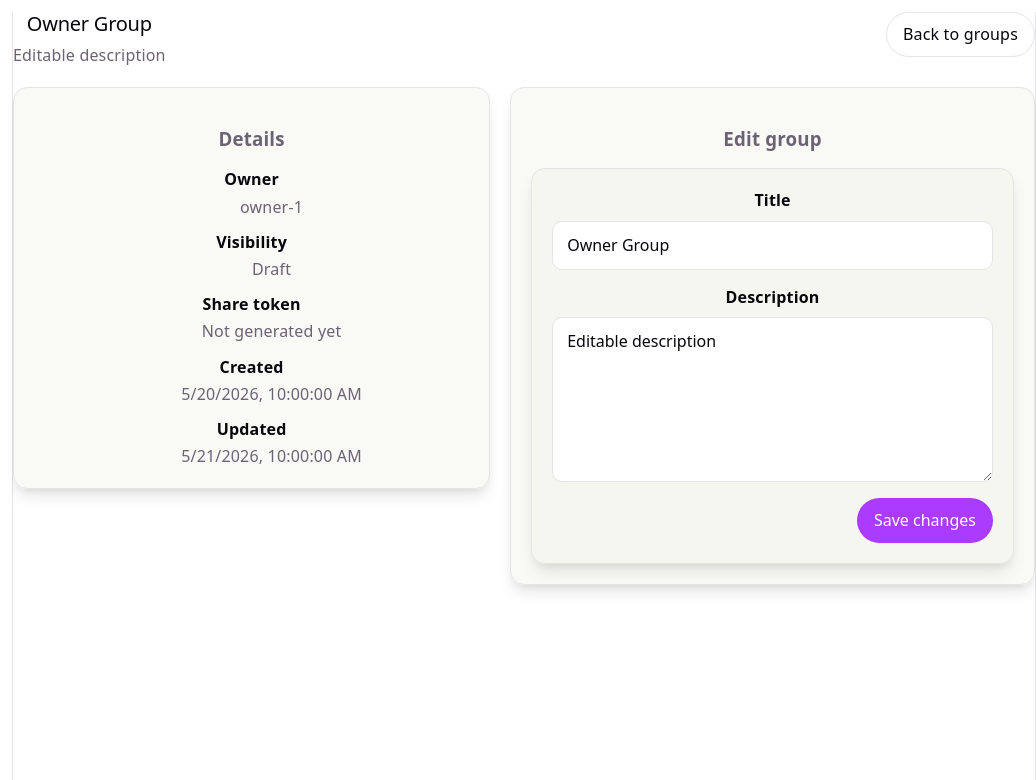
Test: GroupDetailRoutePage › shows submit error when owner update fails
Replace the text in the field labelled "Title" with "Updated owner group" at (773, 245), box 552,221 -> 993,270
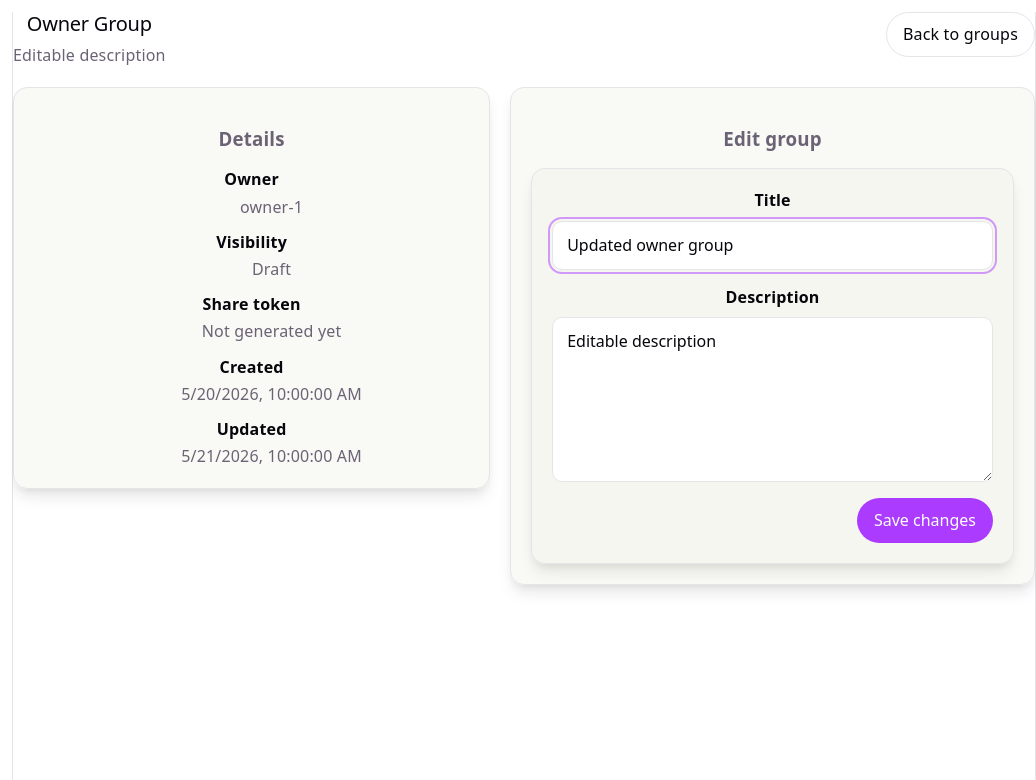
Replace the text in the text box labelled "Description" with "Updated description" at (773, 400), box 552,317 -> 993,482
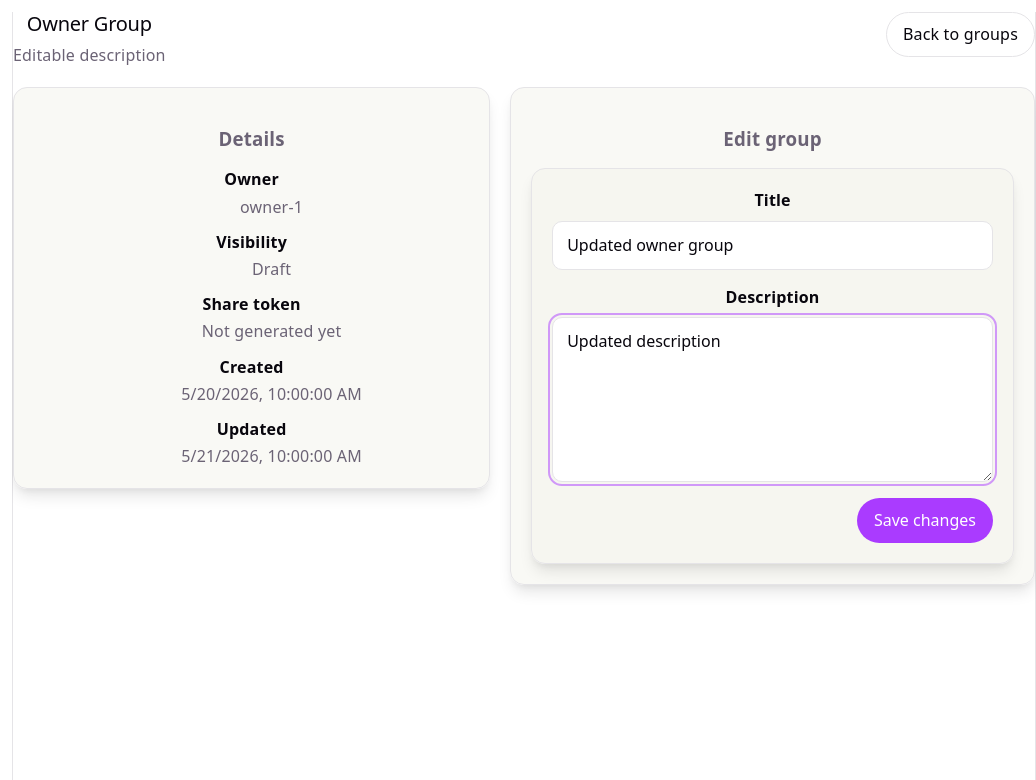
Click the button "Save changes".
click(925, 521)  # box 857,498 -> 993,543
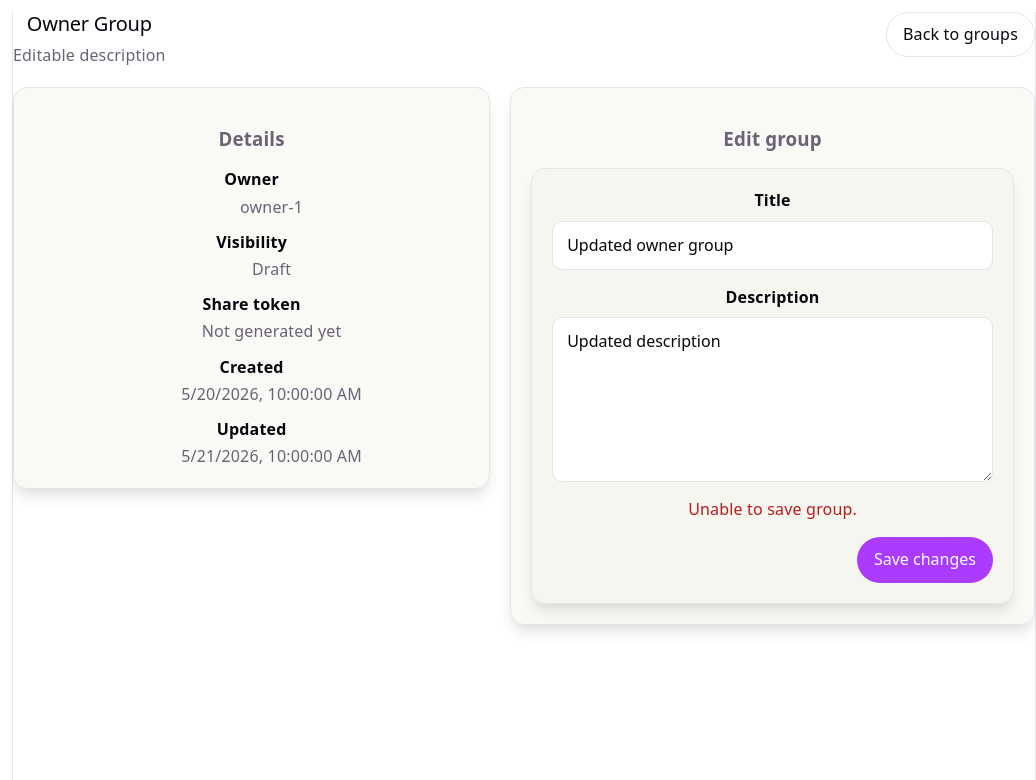
Check: the message reads "Unable to save group.", box 688,498 -> 857,520
